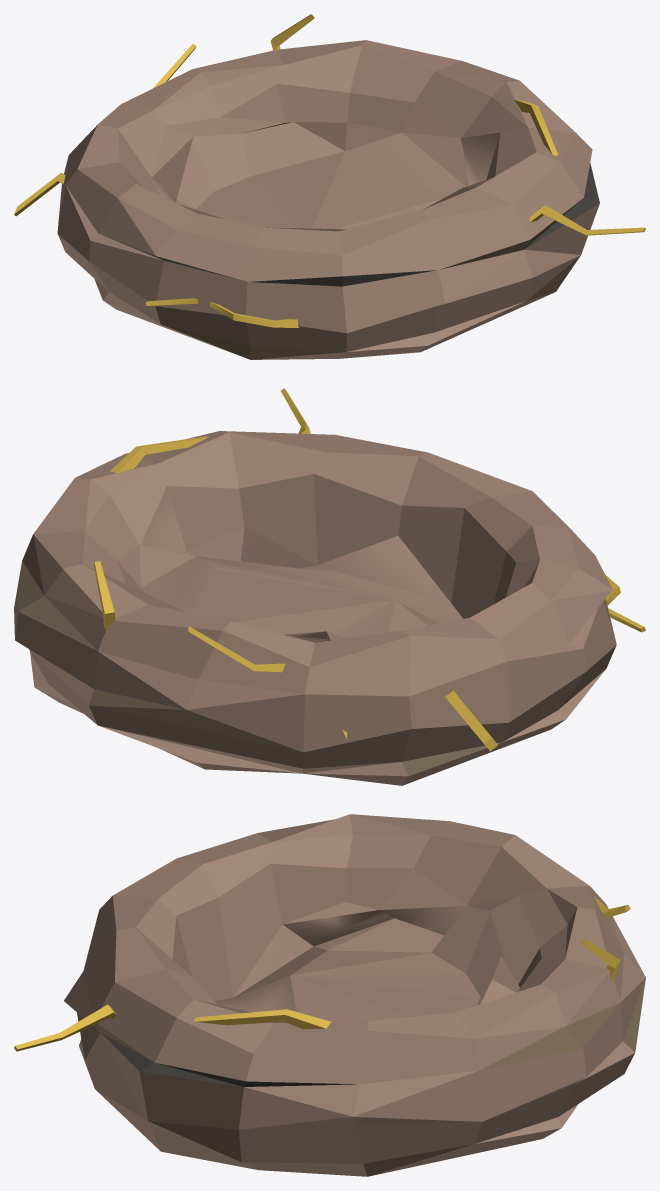
Rendered from nest.fbx.
The picture shows the model from 3 angles, top to bottom: view 1: azimuth 30°, elevation 25°; view 2: azimuth 150°, elevation 25°; view 3: azimuth 270°, elevation 25°; orthographic projection. The views are drawn at different scales.
Visible parts, largest first — view 1: import18; view 2: import18; view 3: import18.
Part boxes in pixels (bbox=[...]): import18: bbox=[14, 14, 645, 359]; import18: bbox=[14, 388, 645, 785]; import18: bbox=[14, 814, 645, 1176].
Bounding box in the file's own units: 6.77 × 2.29 × 6.83.
